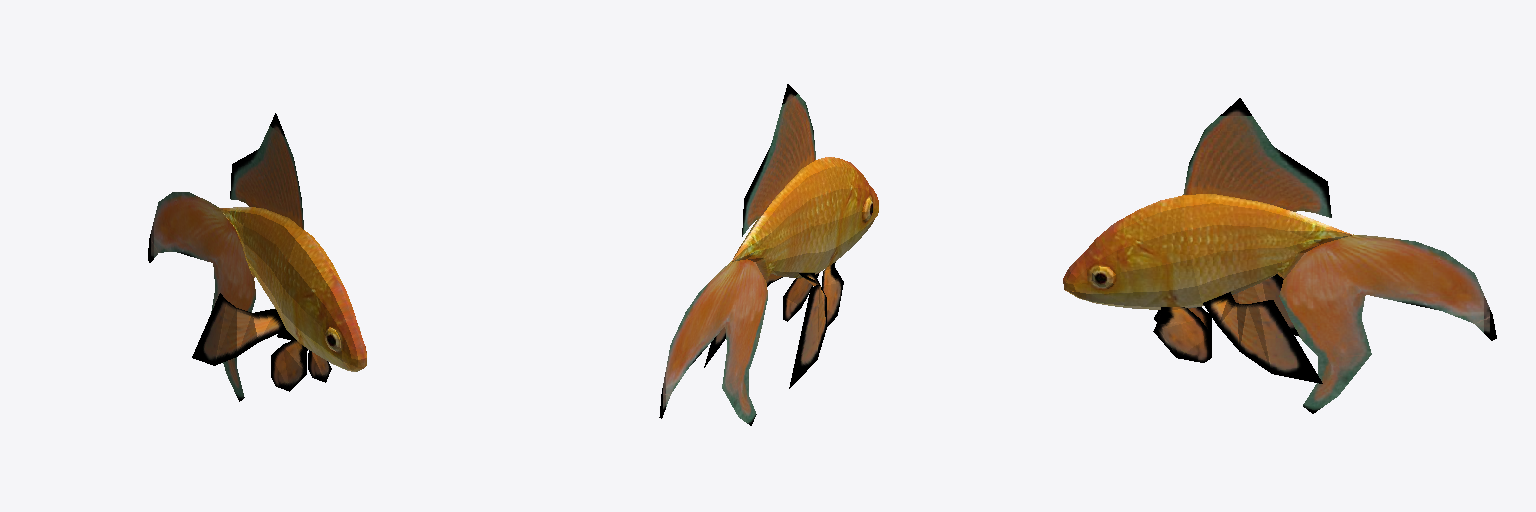
The picture shows the model from 3 angles: view 1: azimuth 30°, elevation 25°; view 2: azimuth 150°, elevation 25°; view 3: azimuth 270°, elevation 25°; orthographic projection.
Parts seen in each view (by area): view 1: Circle; view 2: Circle; view 3: Circle.
Boxes of the visible parts, x1,y1,x2,y2 form: Circle: [148, 113, 366, 401]; Circle: [659, 84, 878, 425]; Circle: [1063, 98, 1496, 413].
Bounding box in the file's own units: 2.18 × 7.27 × 9.03.
1 materials, 1 textured.